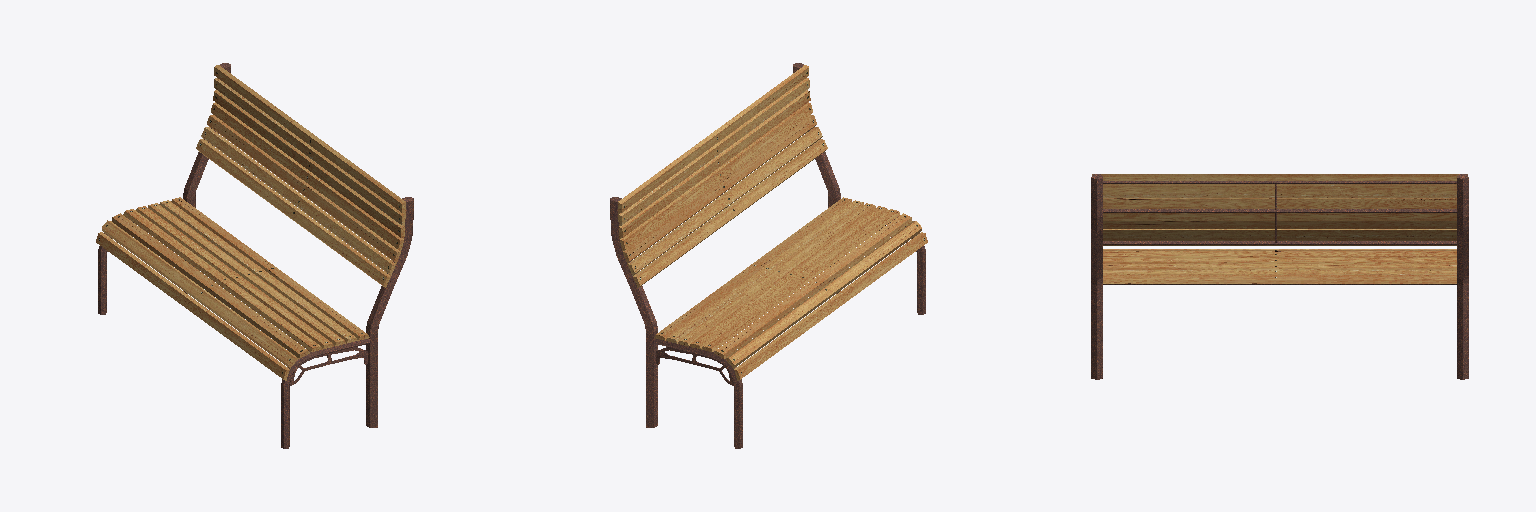
The picture shows the model from 3 angles: view 1: azimuth 30°, elevation 25°; view 2: azimuth 150°, elevation 25°; view 3: azimuth 270°, elevation 25°; orthographic projection.
Parts seen in each view (by area): view 1: drvoKlupa117, farbaKlupa117; view 2: drvoKlupa117, farbaKlupa117; view 3: drvoKlupa117, farbaKlupa117.
Boxes of the visible parts, x1,y1,x2,y2 form: drvoKlupa117: [96, 65, 405, 380]; farbaKlupa117: [98, 63, 413, 448]; drvoKlupa117: [618, 65, 927, 380]; farbaKlupa117: [610, 63, 925, 448]; drvoKlupa117: [1092, 174, 1467, 283]; farbaKlupa117: [1091, 174, 1468, 379].
Size of the model in its own units: 18.57 by 29.18 by 45.81.
Materials: 3 (3 with a texture image).